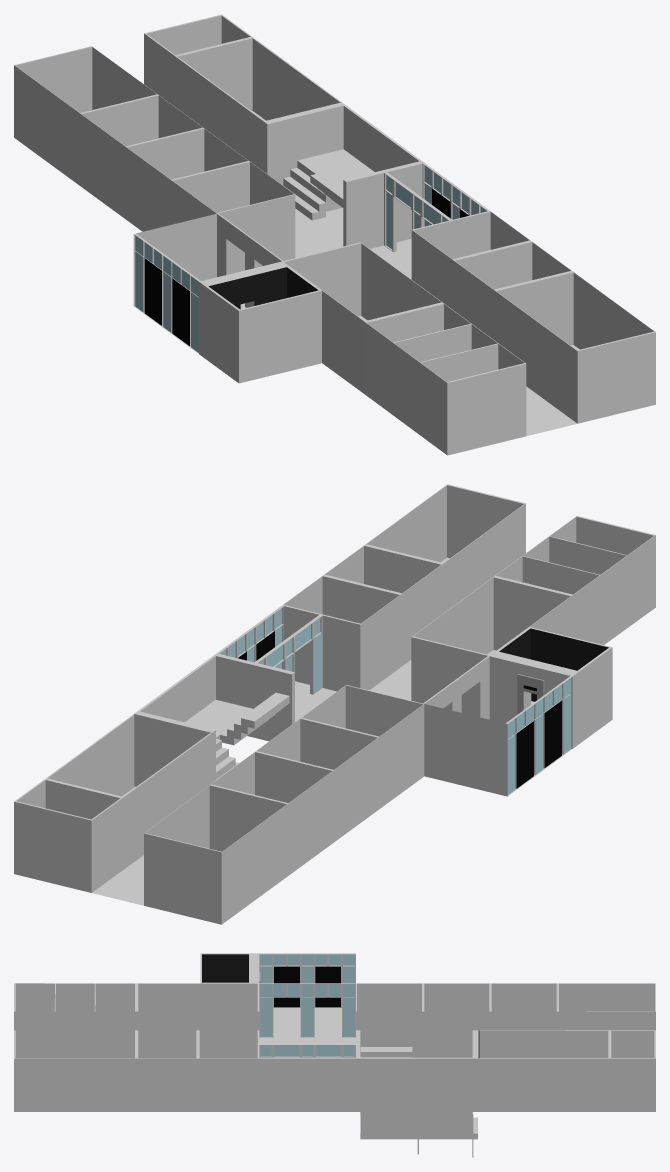
3 renders of one model, top to bottom at view 1: azimuth 30°, elevation 25°; view 2: azimuth 150°, elevation 25°; view 3: azimuth 270°, elevation 25°, orthographic. The views are drawn at different scales.
Parts seen in each view (by area): view 1: Plane; view 2: Plane; view 3: Plane.
Part boxes in pixels (x1,y1,x2,y2): Plane: [14, 14, 655, 455]; Plane: [14, 484, 655, 924]; Plane: [14, 953, 655, 1157].
Bounding box in the file's own units: 2134 × 950 × 5425.
